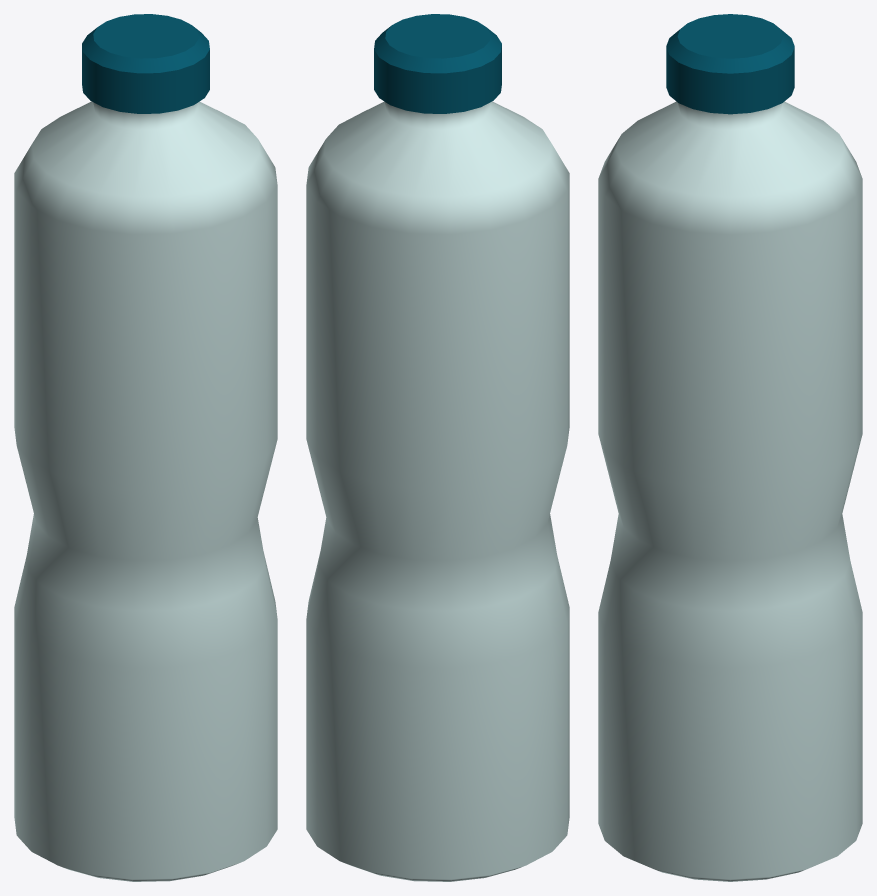
File: SM_Bottle_02.fbx
3 renders of one model, left to right at view 1: azimuth 30°, elevation 25°; view 2: azimuth 150°, elevation 25°; view 3: azimuth 270°, elevation 25°, orthographic.
Parts seen in each view (by area): view 1: SM_Bottle_02; view 2: SM_Bottle_02; view 3: SM_Bottle_02.
Boxes of the visible parts, <box> form: SM_Bottle_02: <box>14,14,277,881</box>; SM_Bottle_02: <box>306,14,569,881</box>; SM_Bottle_02: <box>598,14,862,881</box>.
Size of the model in its own units: 10.09 by 33.56 by 10.09.
